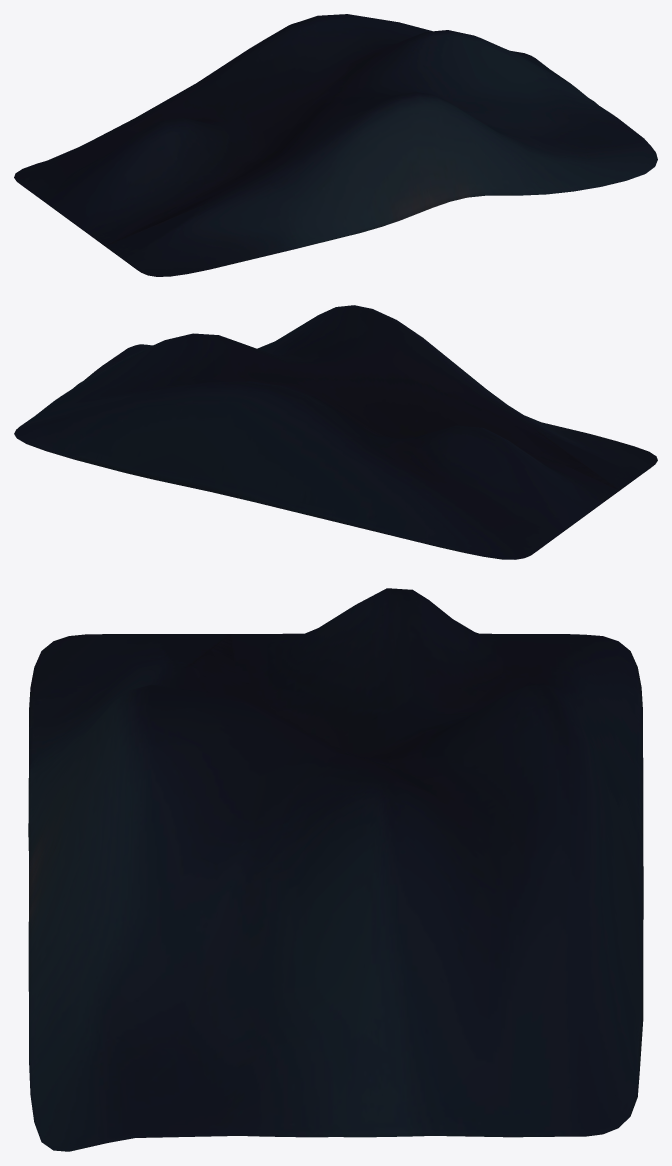
Rendered from Moutain.glb.
The picture shows the model from 3 angles, top to bottom: view 1: azimuth 30°, elevation 25°; view 2: azimuth 150°, elevation 25°; view 3: azimuth 270°, elevation 25°; orthographic projection. The views are drawn at different scales.
Parts seen in each view (by area): view 1: Moutain.003; view 2: Moutain.003; view 3: Moutain.003.
Boxes of the visible parts, x1,y1,x2,y2 form: Moutain.003: [14, 14, 657, 276]; Moutain.003: [14, 305, 657, 559]; Moutain.003: [28, 588, 643, 1151].
Bounding box in the file's own units: 26.44 × 5.52 × 13.66.
Materials: 1 (1 with a texture image).
